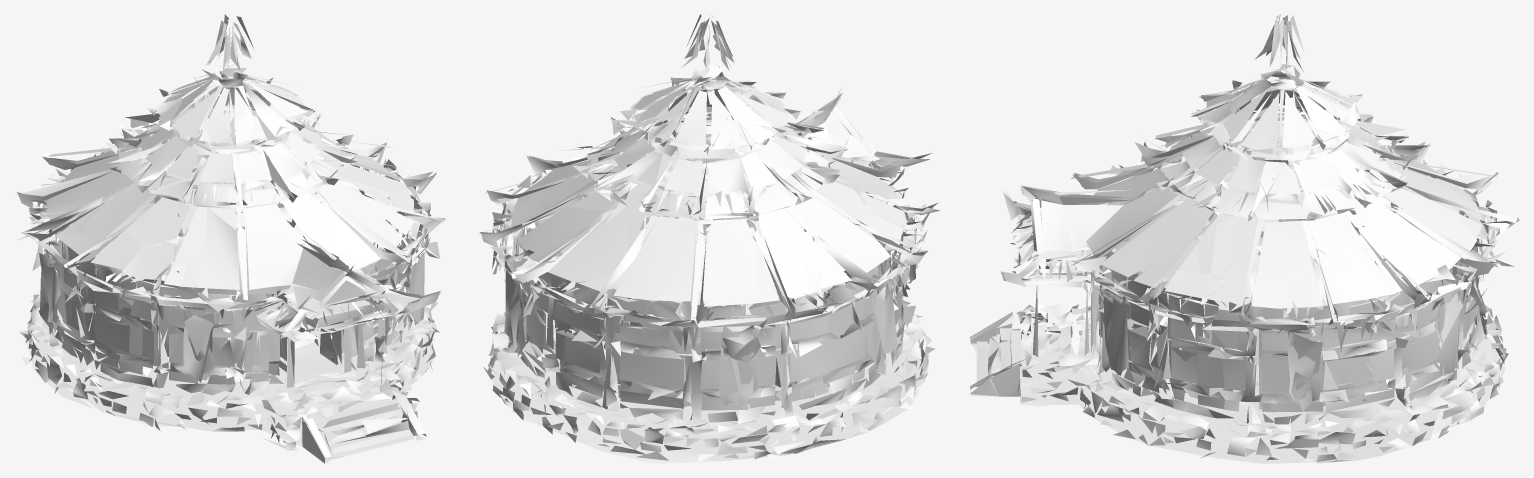
The model's file is khan_palace_lod2.glb.
The picture shows the model from 3 angles, left to right: view 1: azimuth 30°, elevation 25°; view 2: azimuth 150°, elevation 25°; view 3: azimuth 270°, elevation 25°; orthographic projection. The views are drawn at different scales.
Visible parts, largest first — view 1: khan_palace; view 2: khan_palace; view 3: khan_palace.
Boxes of the visible parts, left/top/right/bottom form: khan_palace: left=15, top=14, right=445, bottom=463; khan_palace: left=478, top=14, right=939, bottom=463; khan_palace: left=969, top=14, right=1519, bottom=463.
Size of the model in its own units: 25.3 by 21.72 by 29.95.
1 material, 1 textured.
